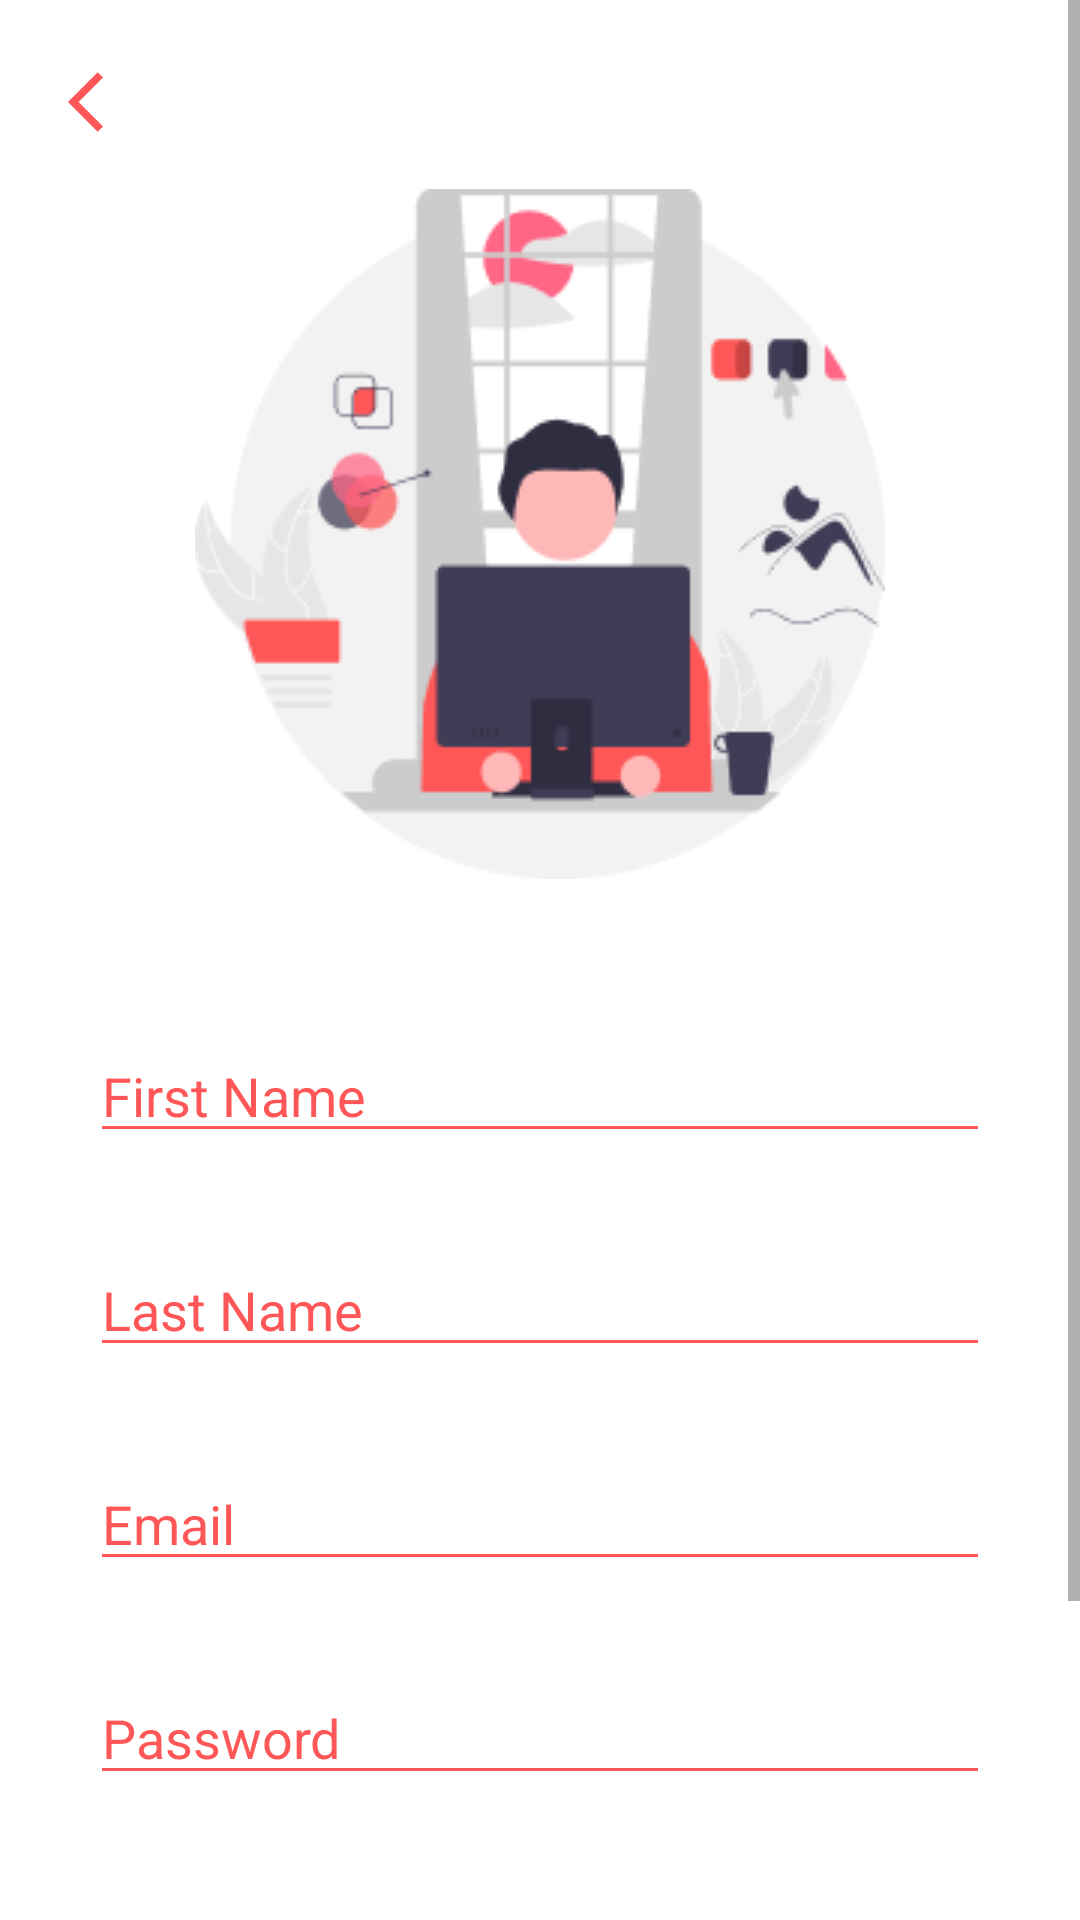

Screen size 1080px×1920px. Icon name, then its center in pixels as point (x, y):
arrow back: point (85, 102)
